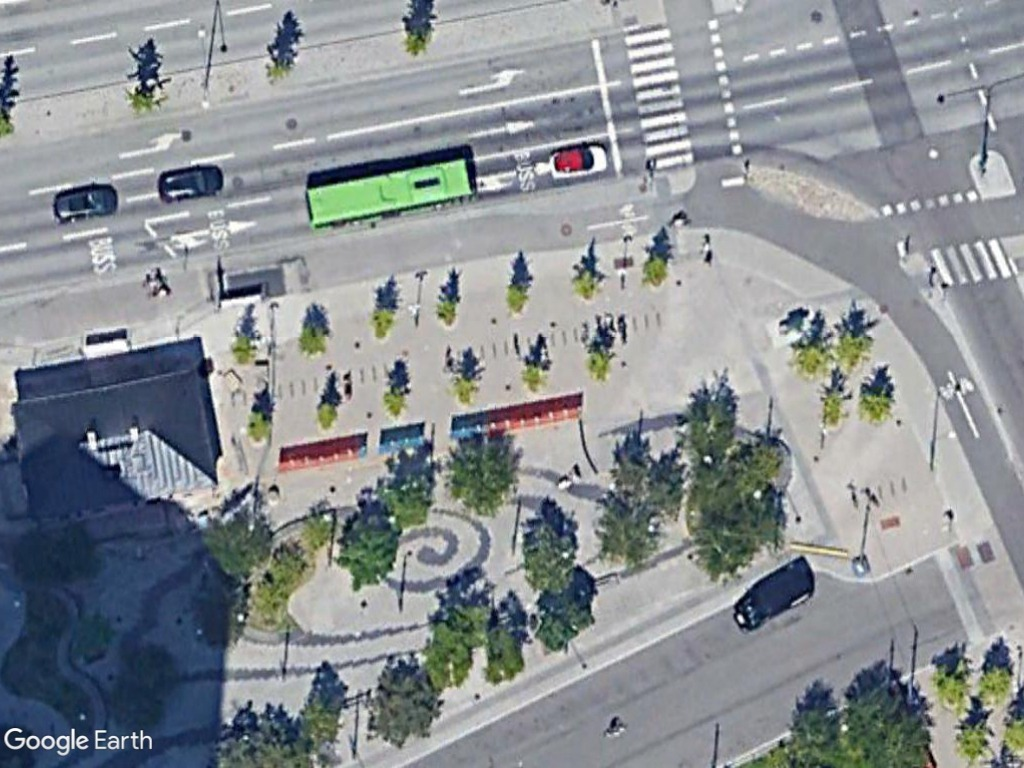bus: (302, 151, 481, 232)
car: (153, 159, 229, 206), (542, 140, 612, 186), (50, 180, 120, 226)
